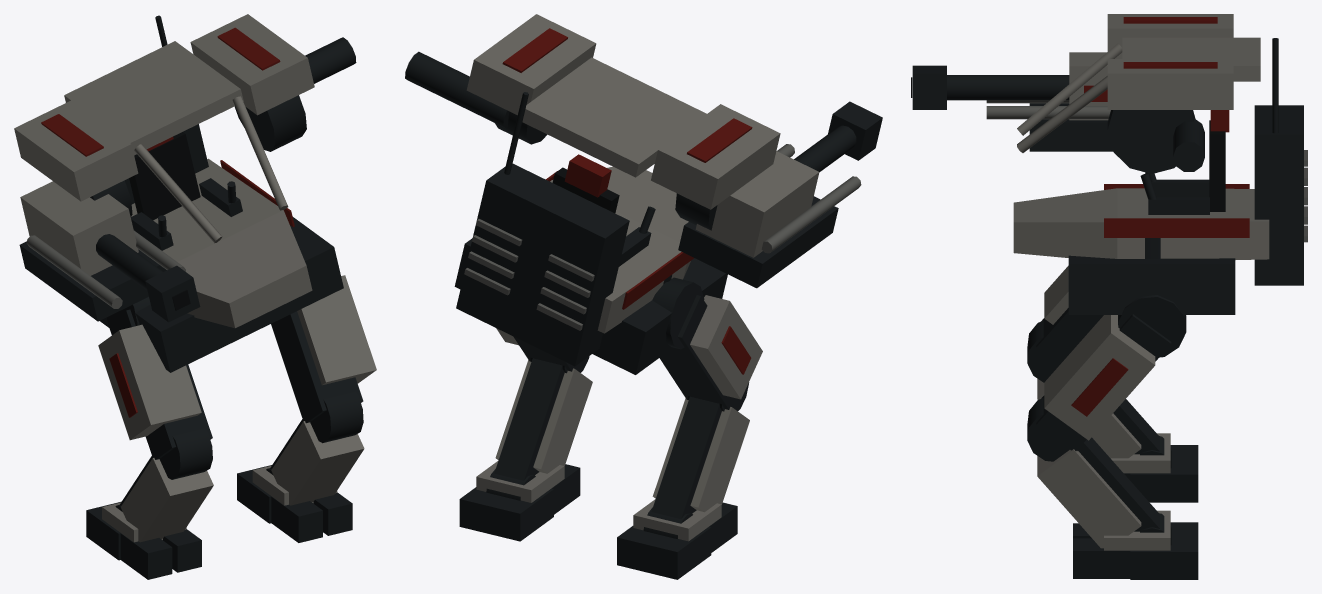
3 renders of one model, left to right at view 1: azimuth 30°, elevation 25°; view 2: azimuth 150°, elevation 25°; view 3: azimuth 270°, elevation 25°, orthographic. The views are drawn at different scales.
Visible parts, largest first — view 1: mech-torso-painted, mech-cannon-recoil-painted, mech-hip-0-painted, mech-hip-1-painted, mech-knee-0-painted, mech-knee-1-painted, mech-cannon-pitch-painted, mech-seat-pilot-painted, mech-ankle-0-painted, mech-ankle-1-painted; view 2: mech-torso-painted, mech-cannon-recoil-painted, mech-hip-0-painted, mech-knee-0-painted, mech-knee-1-painted, mech-ankle-1-painted, mech-ankle-0-painted, mech-cannon-pitch-painted, mech-seat-pilot-painted, mech-hip-1-painted; view 3: mech-torso-painted, mech-hip-1-painted, mech-knee-1-painted, mech-ankle-1-painted, mech-cannon-recoil-painted, mech-seat-pilot-painted, mech-ankle-0-painted, mech-cannon-pitch-painted, mech-knee-0-painted, mech-hip-0-painted.
Boxes of the visible parts, box(x1,y1,x2,y2) form: mech-torso-painted: box(14, 14, 356, 372); mech-cannon-recoil-painted: box(20, 181, 200, 322); mech-hip-0-painted: box(98, 297, 212, 459); mech-hip-1-painted: box(271, 275, 376, 423); mech-knee-0-painted: box(119, 428, 213, 542); mech-knee-1-painted: box(270, 391, 364, 505); mech-cannon-pitch-painted: box(19, 230, 185, 321); mech-seat-pilot-painted: box(129, 132, 242, 250); mech-ankle-0-painted: box(86, 501, 201, 579); mech-ankle-1-painted: box(237, 465, 352, 542); mech-torso-painted: box(405, 14, 780, 374); mech-cannon-recoil-painted: box(695, 101, 882, 257); mech-hip-0-painted: box(652, 277, 762, 409); mech-knee-0-painted: box(651, 382, 749, 518); mech-knee-1-painted: box(494, 356, 592, 480); mech-ankle-1-painted: box(459, 461, 580, 541); mech-ankle-0-painted: box(617, 499, 737, 579); mech-cannon-pitch-painted: box(678, 144, 861, 288); mech-seat-pilot-painted: box(552, 154, 655, 266); mech-hip-1-painted: box(496, 328, 575, 371); mech-torso-painted: box(1013, 14, 1307, 314); mech-hip-1-painted: box(1036, 295, 1186, 450); mech-knee-1-painted: box(1027, 398, 1159, 548); mech-ankle-1-painted: box(1073, 510, 1198, 579); mech-cannon-recoil-painted: box(911, 52, 1108, 120); mech-seat-pilot-painted: box(1140, 110, 1229, 214); mech-ankle-0-painted: box(1111, 433, 1198, 502); mech-cannon-pitch-painted: box(986, 100, 1113, 151); mech-knee-0-painted: box(1027, 320, 1159, 458); mech-hip-0-painted: box(1036, 265, 1103, 364).
Bounding box in the file's own units: 18.5 × 24.6 × 18.04.
